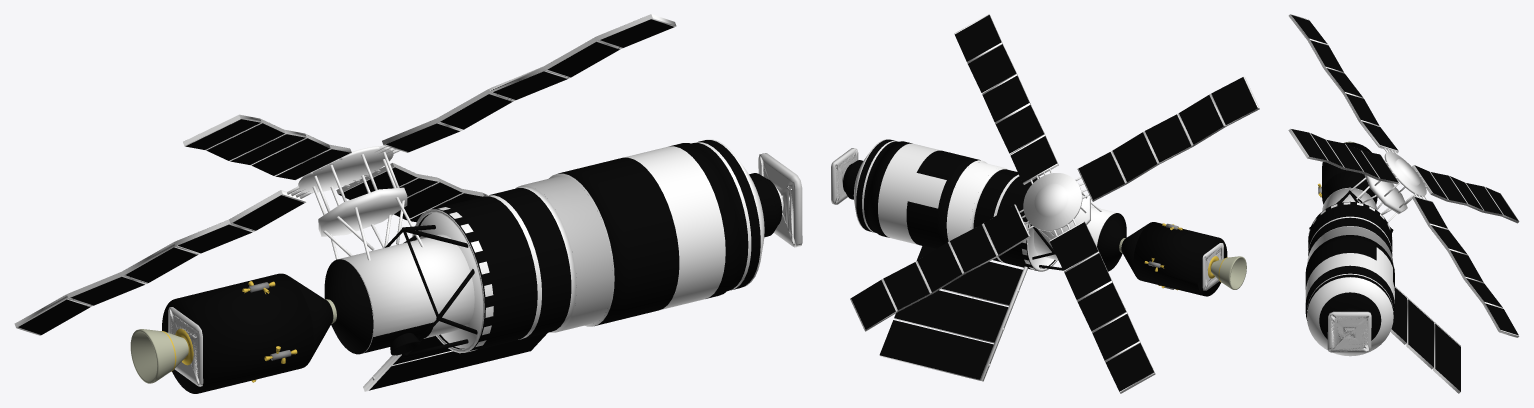
Rendered from skylab.glb.
3 views of the same model, side by side, from view 1: azimuth 30°, elevation 25°; view 2: azimuth 150°, elevation 25°; view 3: azimuth 270°, elevation 25° (orthographic). The views are drawn at different scales.
Visible parts, largest first — view 1: polySurfac; view 2: polySurfac; view 3: polySurfac.
Boxes of the visible parts, bbox=[...] form: polySurfac: bbox=[14, 14, 802, 393]; polySurfac: bbox=[831, 14, 1259, 393]; polySurfac: bbox=[1288, 14, 1519, 393].
Bounding box in the file's own units: 100 × 67.63 × 54.95.
